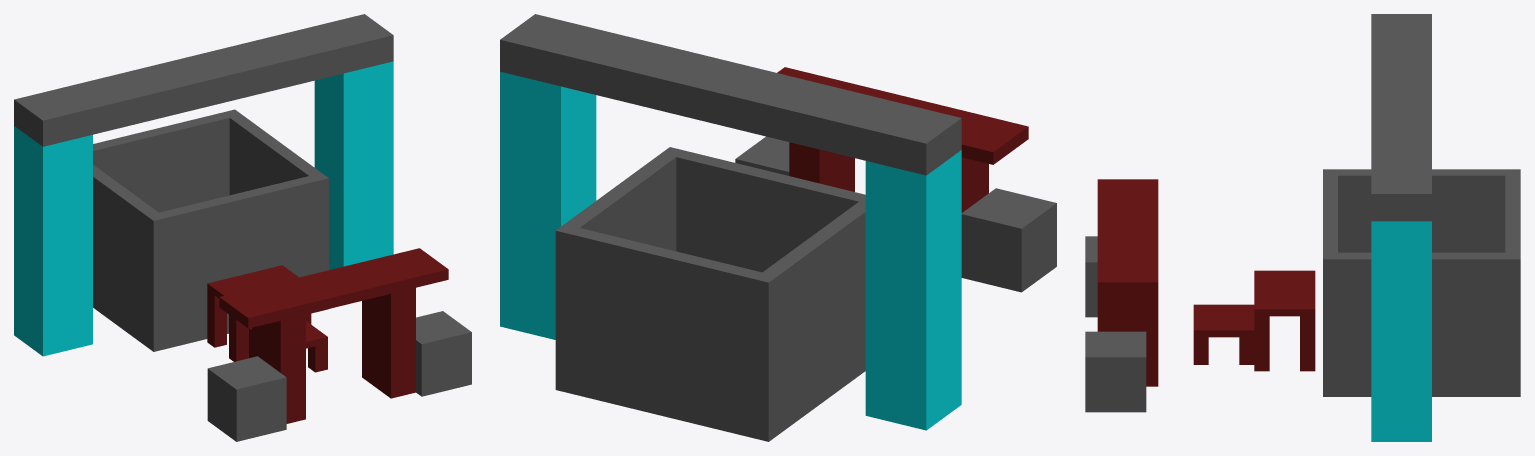
The model's file is Pot.glb.
3 views of the same model, side by side, from view 1: azimuth 30°, elevation 25°; view 2: azimuth 150°, elevation 25°; view 3: azimuth 270°, elevation 25° (orthographic). The views are drawn at different scales.
Visible parts, largest first — view 1: Cube.016, Cube.015, Cube.010, Cube.014, Cube.013, Cube.012, Cube.026, Cube.029, Cube.011, Cube.017, Cube.028, Cube.396 (+4 smaller); view 2: Cube.012, Cube.016, Cube.015, Cube.013, Cube.014, Cube.010, Cube.011, Cube.029, Cube.026, Cube.017, Cube.028, Cube.396; view 3: Cube.011, Cube.014, Cube.016, Cube.013, Cube.026, Cube.028, Cube.017, Cube.005, Cube.004, Cube.012, Cube.010, Cube.029 (+4 smaller).
Boxes of the visible parts, x1,y1,x2,y2 form: Cube.016: (14,14,393,146); Cube.015: (14,126,92,356); Cube.010: (159,176,316,348); Cube.014: (314,61,393,269); Cube.013: (93,164,166,351); Cube.012: (93,112,229,212); Cube.026: (219,248,448,328); Cube.029: (207,356,286,441); Cube.011: (223,109,328,312); Cube.017: (362,288,415,398); Cube.028: (416,311,471,396); Cube.396: (252,314,305,423); Cube.012: (571,228,761,438); Cube.016: (500,14,961,175); Cube.015: (865,150,961,430); Cube.013: (753,197,865,441); Cube.014: (500,71,596,339); Cube.010: (676,150,865,272); Cube.011: (555,147,684,393); Cube.029: (961,188,1056,292); Cube.026: (777,67,1028,164); Cube.017: (789,142,854,191); Cube.028: (735,136,789,175); Cube.396: (961,157,988,212); Cube.011: (1323,252,1520,396); Cube.014: (1371,221,1431,441); Cube.016: (1371,14,1431,221); Cube.013: (1323,169,1520,252); Cube.026: (1097,179,1158,293); Cube.028: (1085,331,1146,412); Cube.017: (1097,293,1158,386); Cube.005: (1254,270,1315,316); Cube.004: (1193,304,1254,337); Cube.012: (1505,175,1520,252); Cube.010: (1323,175,1337,252); Cube.029: (1085,236,1097,317).
Bounding box in the file's own units: 7 × 4.5 × 7.15.
